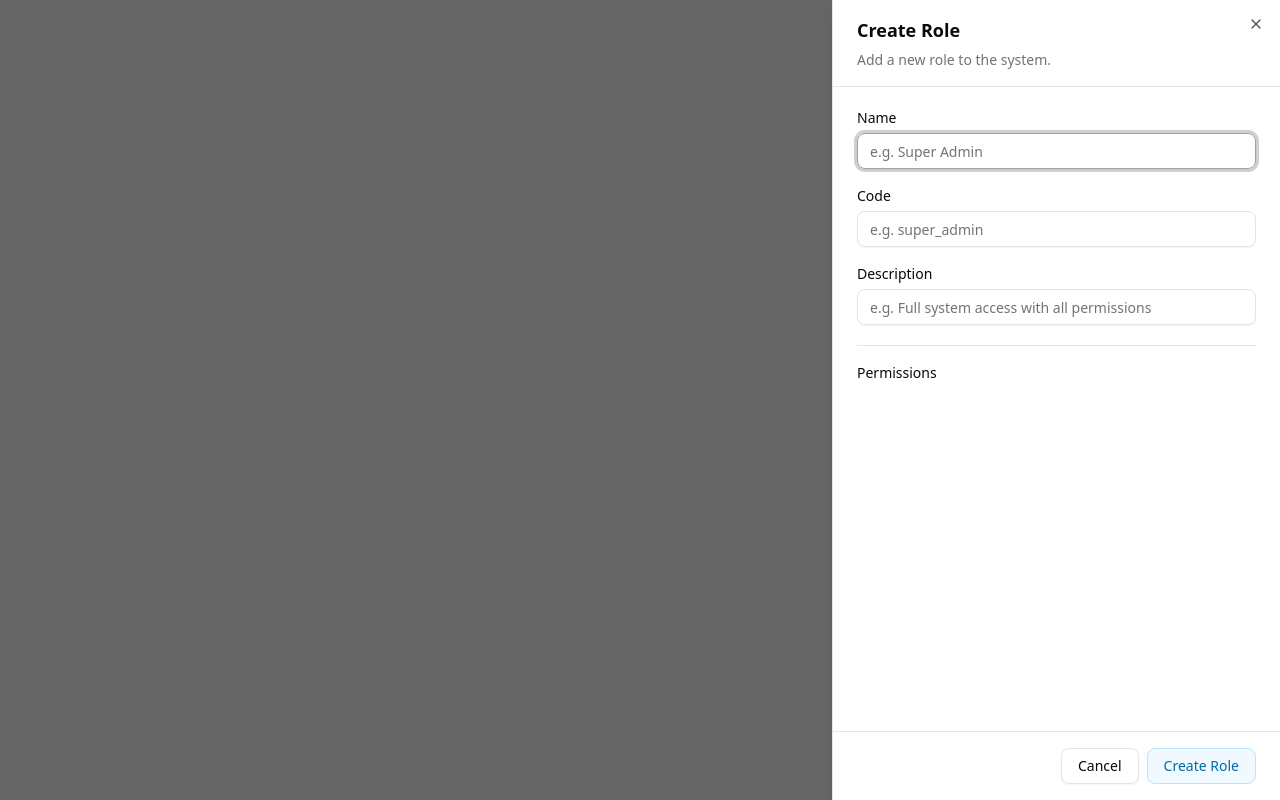
RoleDialog — create mode › empty name + Create → "Name is required."
Click the button "Create Role".
click(1201, 766)  # box [1147,748,1256,784]
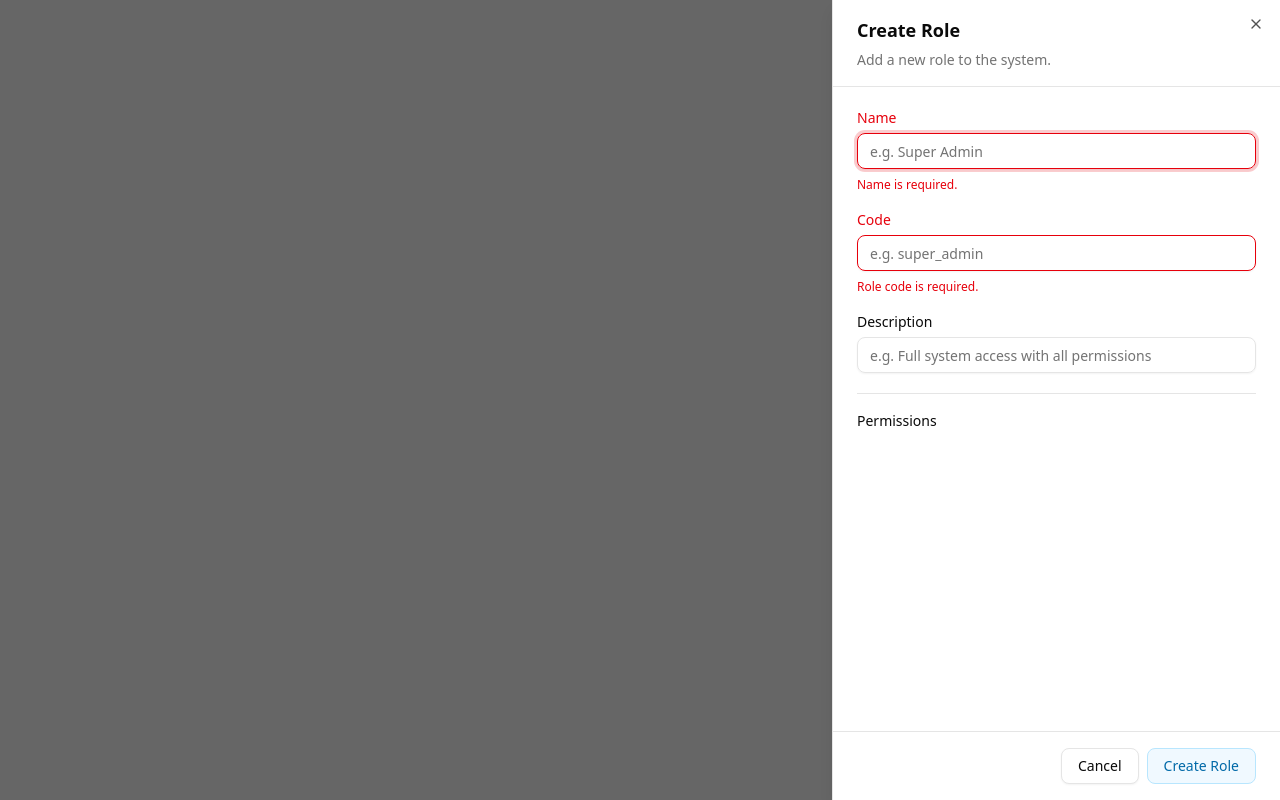
Check: the text "Name is required." is shown, box [857,176,957,193]
